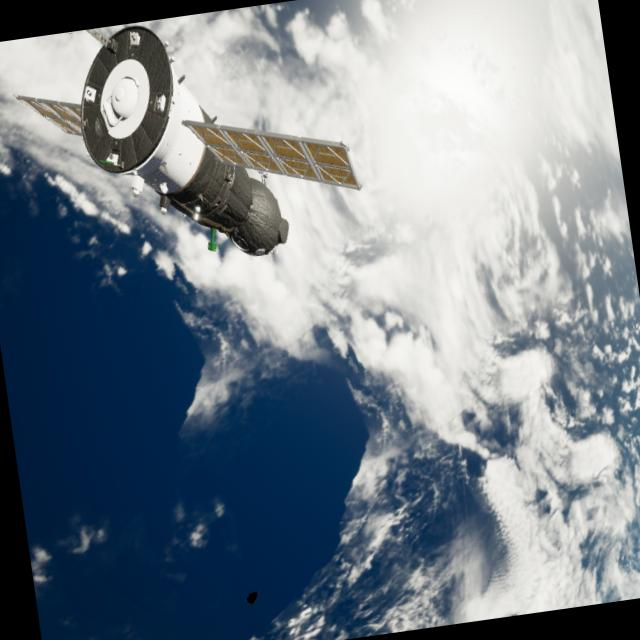Satellites revolving around earth: (5, 0, 372, 290)
